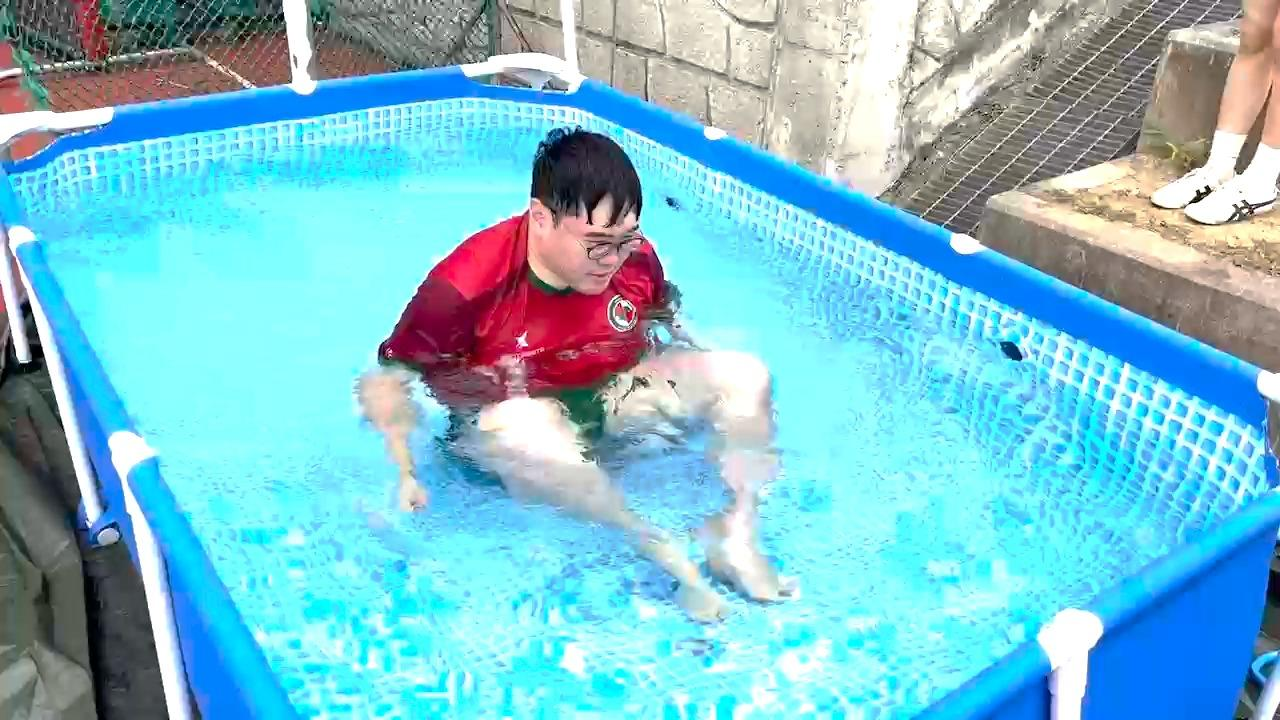Swimming: (306, 80, 846, 627)
